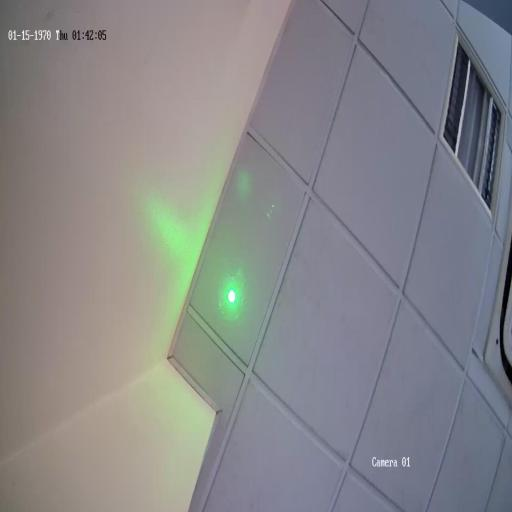laser: (224, 284, 238, 309)
